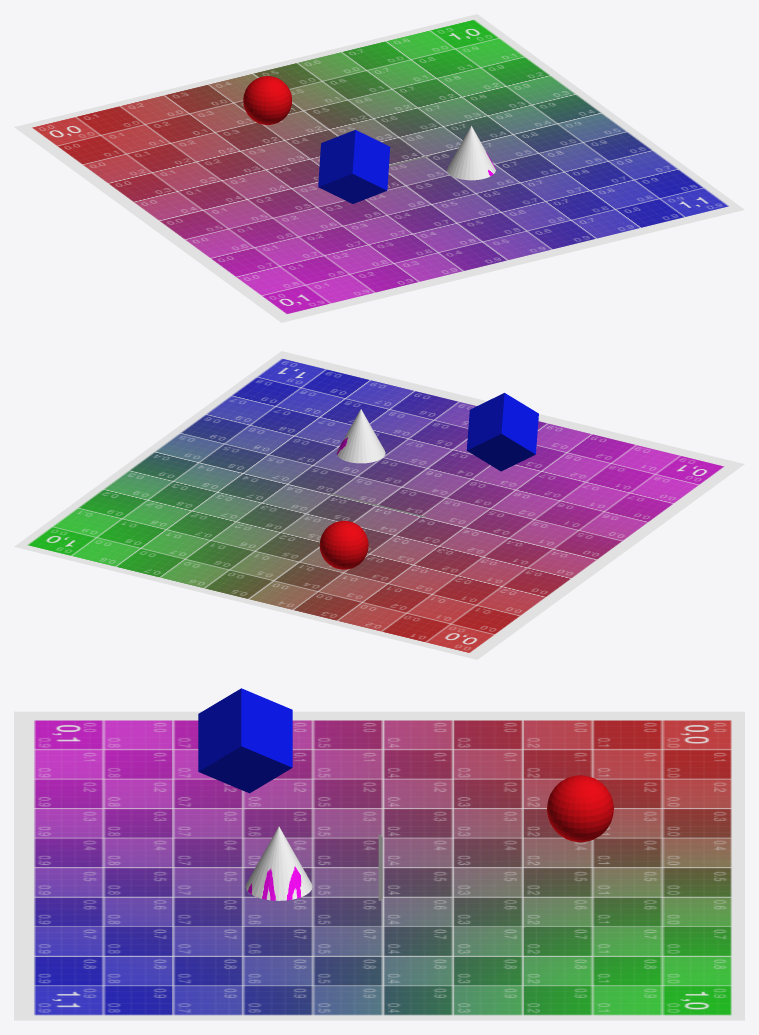
3 views of the same model, one above another, from view 1: azimuth 30°, elevation 25°; view 2: azimuth 150°, elevation 25°; view 3: azimuth 270°, elevation 25° (orthographic). The views are drawn at different scales.
Visible parts, largest first — view 1: Plane, Cube, Sphere, Cone; view 2: Plane, Cube, Sphere, Cone; view 3: Plane, Cube, Sphere, Cone.
Boxes of the visible parts, left/top/right/bottom form: Plane: left=14, top=14, right=744, bottom=322; Cube: left=318, top=130, right=390, bottom=203; Sphere: left=243, top=76, right=291, bottom=124; Cone: left=447, top=126, right=495, bottom=180; Plane: left=14, top=351, right=744, bottom=659; Cube: left=466, top=393, right=538, bottom=471; Sphere: left=319, top=520, right=368, bottom=569; Cone: left=336, top=409, right=385, bottom=463; Plane: left=14, top=711, right=744, bottom=1020; Cube: left=198, top=688, right=292, bottom=793; Sphere: left=547, top=775, right=613, bottom=842; Cone: left=245, top=826, right=312, bottom=900.
Size of the model in its own units: 21.83 by 4.23 by 21.83.
4 materials, 2 textured.
